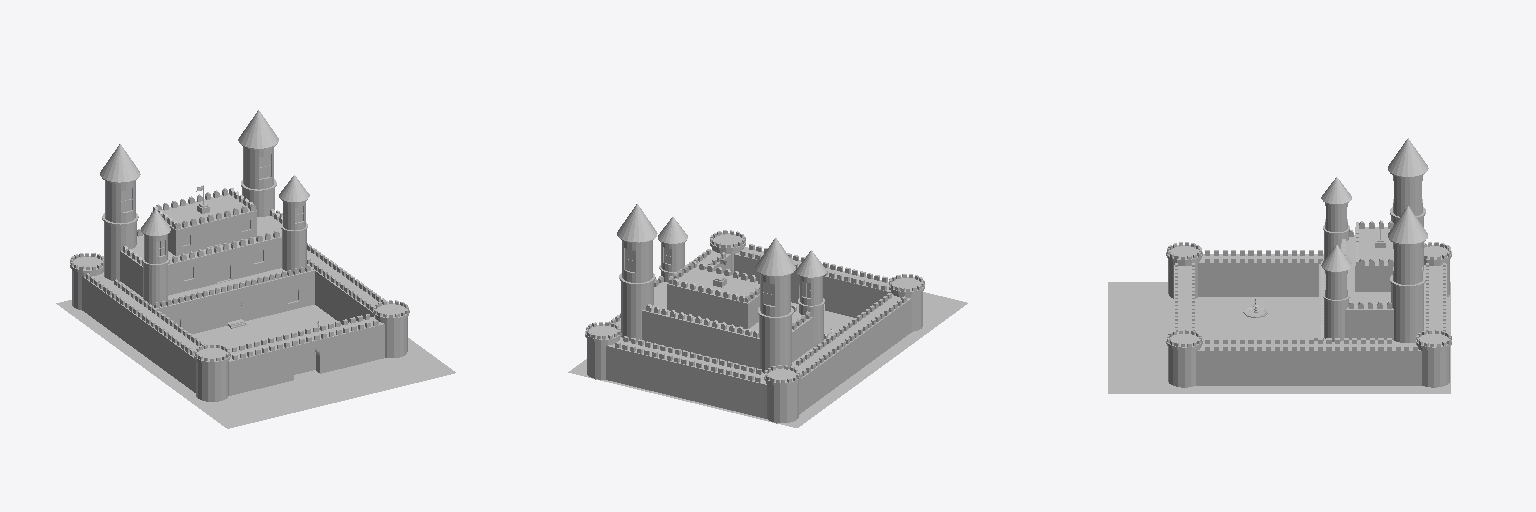
Rendered from CastleOBJ.obj.
3 views of the same model, side by side, from view 1: azimuth 30°, elevation 25°; view 2: azimuth 150°, elevation 25°; view 3: azimuth 270°, elevation 25° (orthographic).
Visible parts, largest first — view 1: Castle_Exterior; view 2: Castle_Exterior; view 3: Castle_Exterior.
Part boxes in pixels (x1,y1,x2,y2): Castle_Exterior: (56, 110, 455, 428); Castle_Exterior: (568, 204, 967, 427); Castle_Exterior: (1108, 138, 1451, 393).
Size of the model in its own units: 58.11 by 40.26 by 75.6.